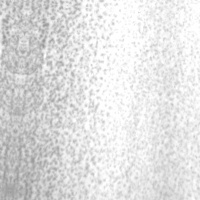pitted_surface: (10, 2, 199, 199)
